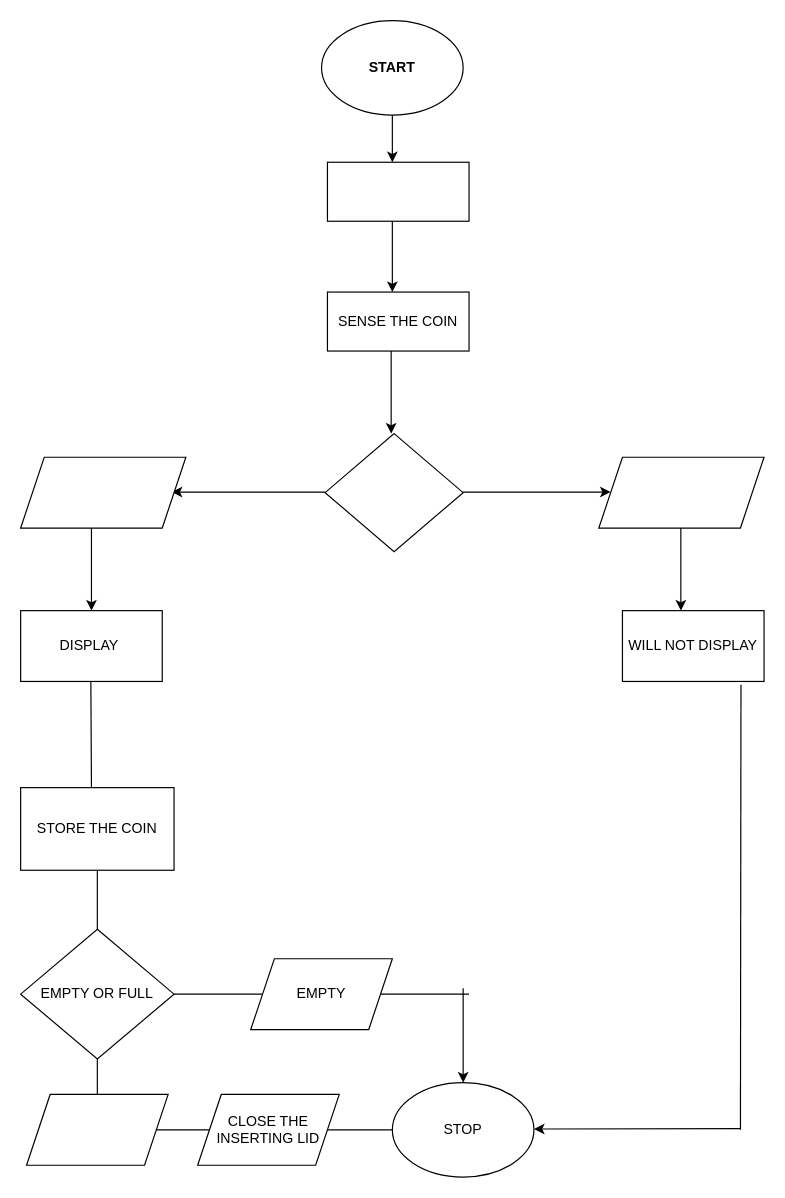
Image size: 785x1198. Some labels were removed from this diagram. Here are the shapes that lost their labels. From the top down, the box of each, then its label:
(326, 161, 469, 221): INSERT THE COIN
(19, 456, 186, 528): COUNT THE COIN
(324, 432, 463, 552): IF COIN IS DETECTED
(598, 456, 764, 528): WILL NOT COUNT
(25, 1093, 168, 1165): FULL
